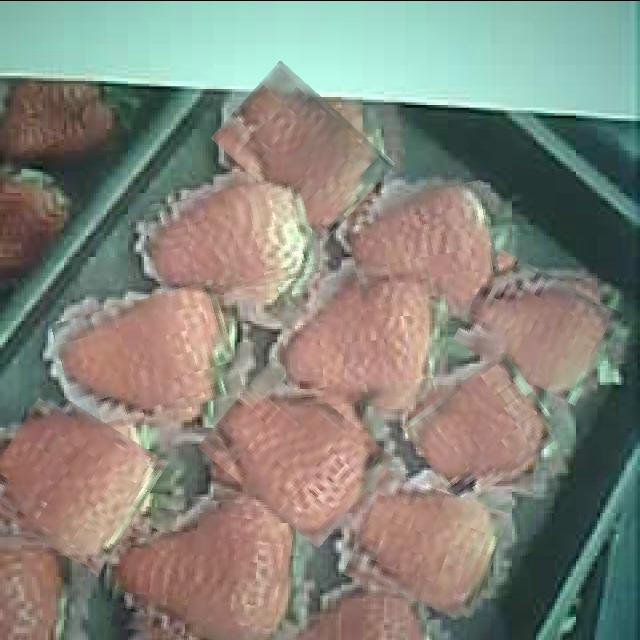strawberry: (208, 374, 384, 528), (115, 494, 292, 640), (0, 399, 157, 561), (57, 288, 237, 426), (218, 79, 388, 222), (351, 476, 502, 610), (461, 261, 616, 391), (147, 180, 316, 298), (280, 272, 432, 403), (409, 364, 555, 494), (349, 185, 498, 301)
